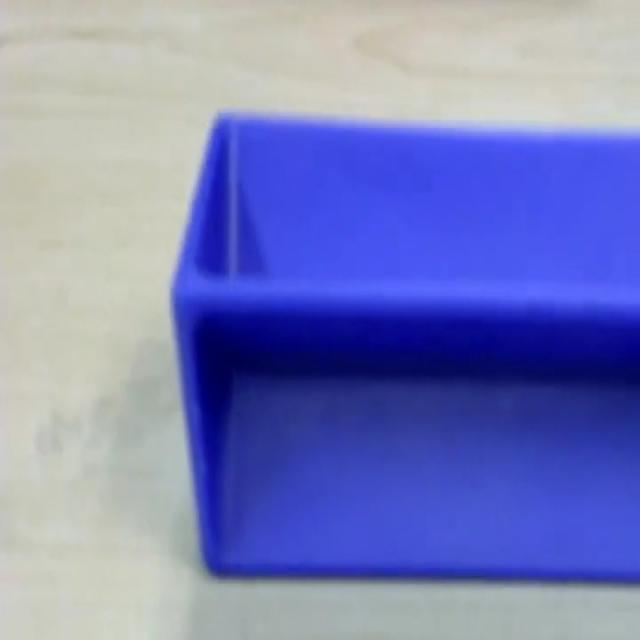blue_block: (170, 107, 638, 582)
